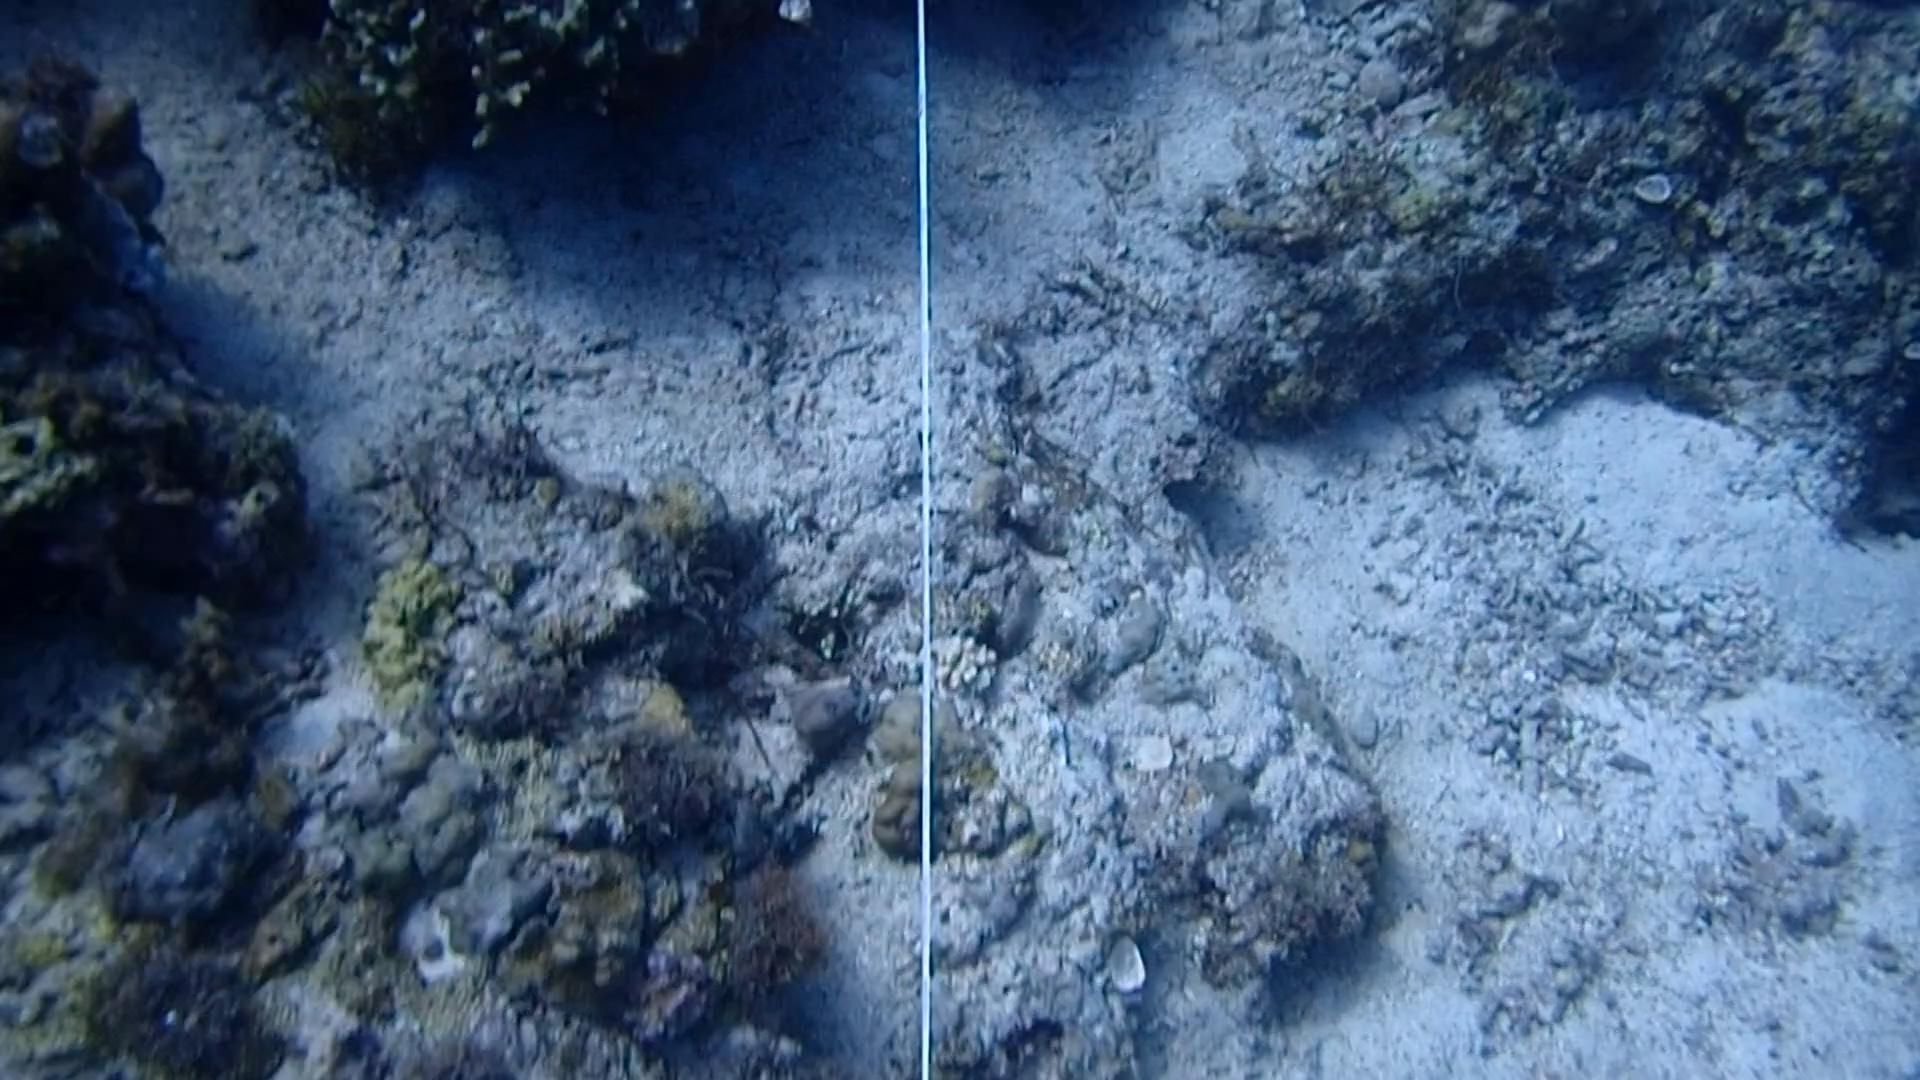Dark Fish: (1693, 78, 1767, 164)
